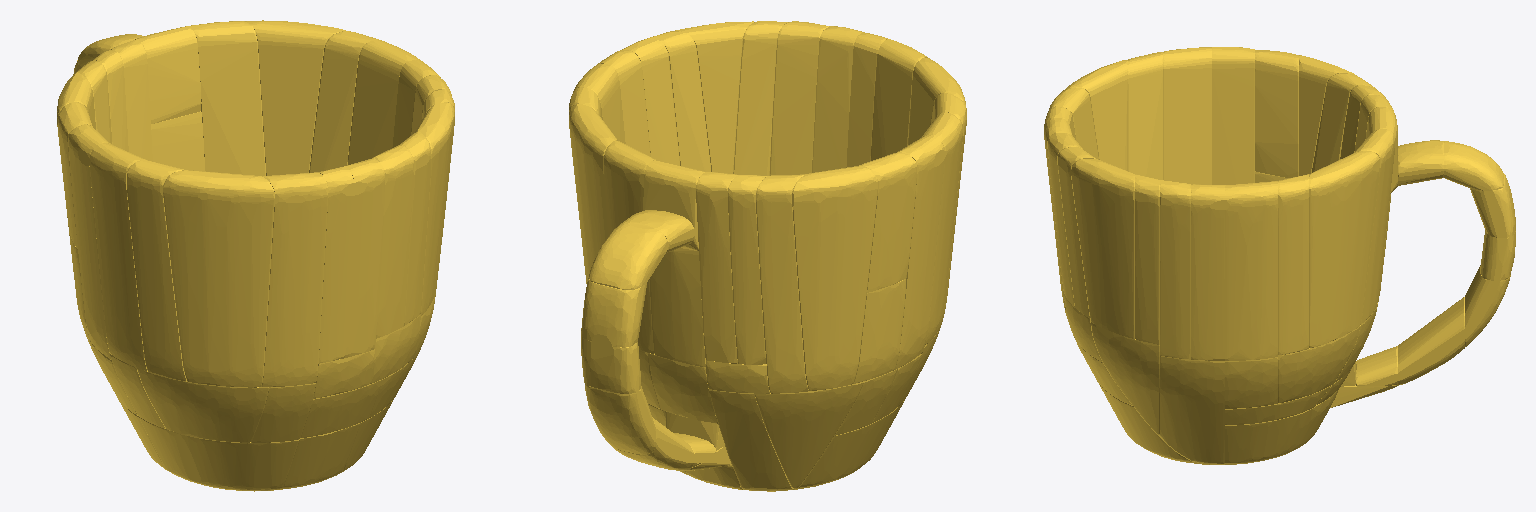
The robot description file, URDF, robot "415.urdf":
<?xml version="1.0" ?>
<robot name="415.urdf">
	<link name="baseLink">
		<inertial>
			<origin rpy="0 0 0" xyz="0 0 0"/>
				<mass value="0.1"/>
				<inertia ixx="6e-5" ixy="0" ixz="0" iyy="6e-5" iyz="0" izz="6e-5"/>
		</inertial>
		<visual>
			<origin rpy="0 0 0" xyz="0 0 0"/>
			<geometry>
				<mesh filename="20_decom_wt.obj" scale="1.08 1.08 0.98"/>
			</geometry>
			<material name="yellow">
				<color rgba="0.98 0.84 0.35 1"/>
			</material>
		</visual>
		<collision>
			<origin rpy="0 0 0" xyz="0 0 0"/>
			<geometry>
				<mesh filename="20_decom_wt.obj" scale="1.08 1.08 0.98"/>
			</geometry>
		</collision>
	</link>
</robot>

--- What the picture shows (computed from the rendered views, not written in the file) ---
The picture shows the robot from 3 angles, left to right: view 1: azimuth 30°, elevation 25°; view 2: azimuth 150°, elevation 25°; view 3: azimuth 270°, elevation 25°; orthographic projection.
Robot: 415.urdf — 1 links, 0 joints (none); root link baseLink; default pose: all joints at 0.
Links seen in each view (by area): view 1: baseLink; view 2: baseLink; view 3: baseLink.
Boxes of the visible links, x1=… form: baseLink: x1=57, y1=20, x2=454, y2=491; baseLink: x1=569, y1=21, x2=966, y2=491; baseLink: x1=1044, y1=47, x2=1515, y2=464.
Bounding box of the posed robot: 0.0927 × 0.1236 × 0.0897 m (x, y, z).
1 mesh visuals loaded from 1 distinct referenced files (1 OBJ).